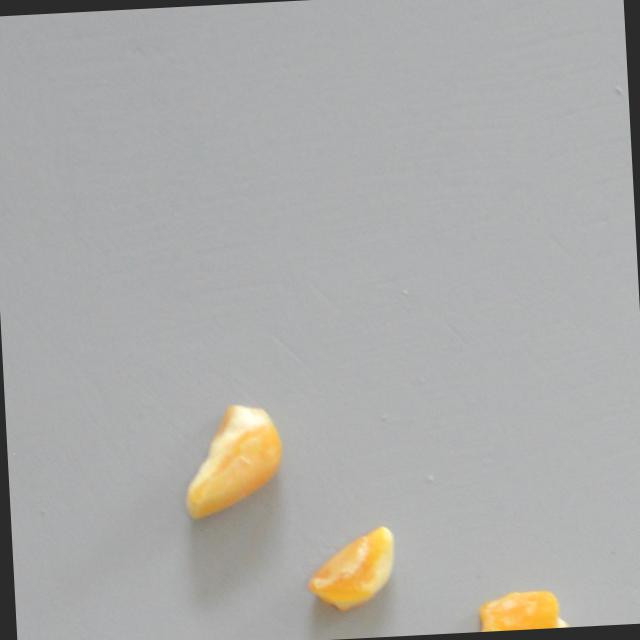dañado: (175, 400, 293, 526), (300, 523, 404, 617), (465, 586, 574, 633)
